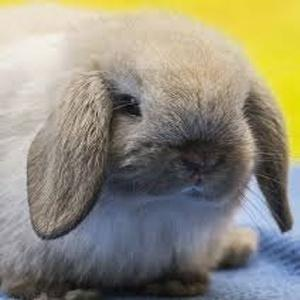rabbit: (0, 12, 290, 298)
